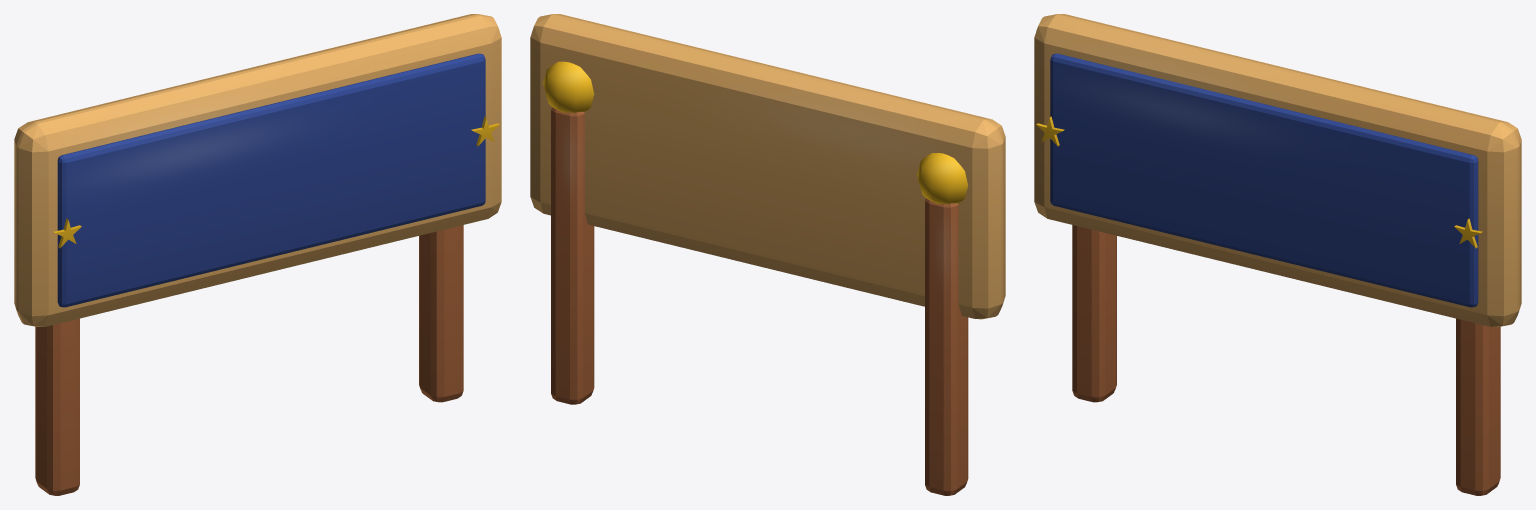
The model's file is PlotSignboard.fbx.
The picture shows the model from 3 angles, left to right: view 1: azimuth 30°, elevation 25°; view 2: azimuth 150°, elevation 25°; view 3: azimuth 330°, elevation 25°; orthographic projection. The views are drawn at different scales.
Parts seen in each view (by area): view 1: PlotSignboard; view 2: PlotSignboard; view 3: PlotSignboard.
Boxes of the visible parts, box(x1,y1,x2,y2) form: PlotSignboard: box(14, 14, 501, 495); PlotSignboard: box(530, 14, 1005, 495); PlotSignboard: box(1034, 14, 1521, 495).
Size of the model in its own units: 3.91 by 2.96 by 0.6144.
1 material, 1 textured.
